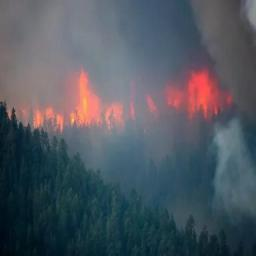Heavy smoke: (0, 0, 256, 255)
Medium fire: (0, 59, 256, 136)
